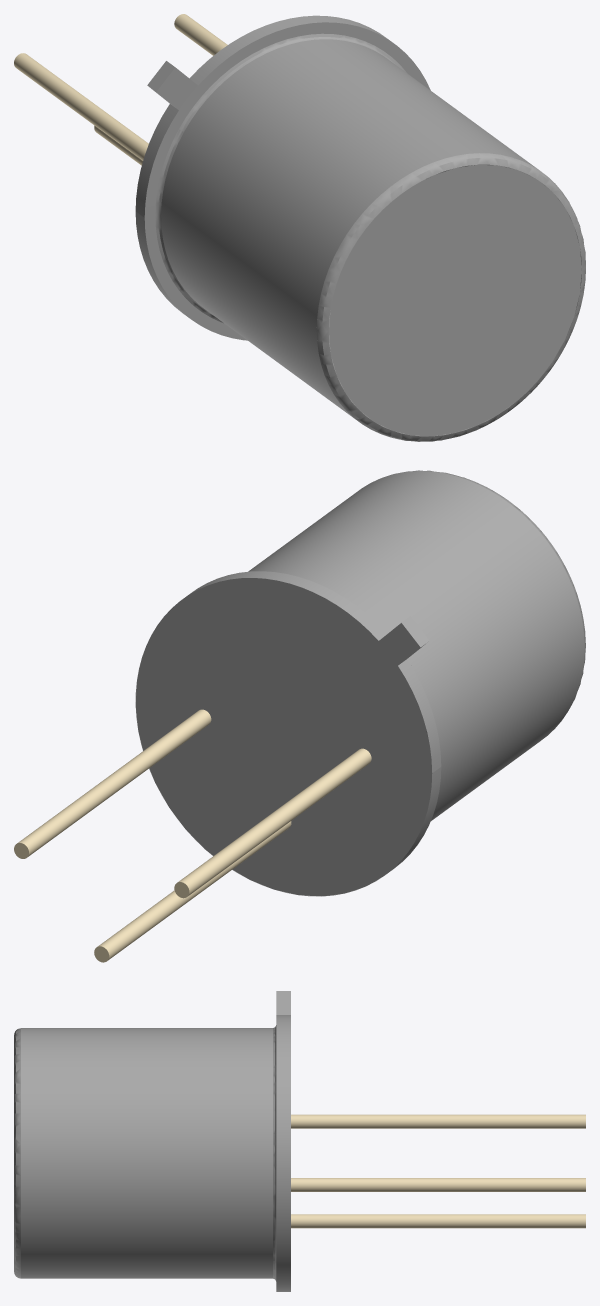
The picture shows the model from 3 angles, top to bottom: view 1: azimuth 30°, elevation 25°; view 2: azimuth 150°, elevation 25°; view 3: azimuth 270°, elevation 25°; orthographic projection. The views are drawn at different scales.
Parts seen in each view (by area): view 1: Shape_IndexedFaceSet.014, Shape_IndexedFaceSet.019, Shape_IndexedFaceSet.018, Shape_IndexedFaceSet.008, Shape_IndexedFaceSet.010, Shape_IndexedFaceSet.011, Shape_IndexedFaceSet.006, Shape_IndexedFaceSet.005, Shape_IndexedFaceSet.013, Shape_IndexedFaceSet.004; view 2: Shape_IndexedFaceSet.009, Shape_IndexedFaceSet.014, Shape_IndexedFaceSet.007, Shape_IndexedFaceSet.011, Shape_IndexedFaceSet.013, Shape_IndexedFaceSet.006, Shape_IndexedFaceSet.012, Shape_IndexedFaceSet.005, Shape_IndexedFaceSet.003, Shape_IndexedFaceSet.018; view 3: Shape_IndexedFaceSet.014, Shape_IndexedFaceSet.011, Shape_IndexedFaceSet.012, Shape_IndexedFaceSet.006, Shape_IndexedFaceSet.013, Shape_IndexedFaceSet.018, Shape_IndexedFaceSet.010.
Part boxes in pixels (x1,y1,x2,y2): Shape_IndexedFaceSet.014: [161, 39, 581, 436]; Shape_IndexedFaceSet.019: [329, 164, 581, 436]; Shape_IndexedFaceSet.018: [316, 153, 585, 441]; Shape_IndexedFaceSet.008: [144, 22, 430, 340]; Shape_IndexedFaceSet.010: [155, 33, 407, 323]; Shape_IndexedFaceSet.011: [14, 53, 148, 160]; Shape_IndexedFaceSet.006: [135, 15, 389, 318]; Shape_IndexedFaceSet.005: [135, 104, 178, 217]; Shape_IndexedFaceSet.013: [174, 14, 227, 55]; Shape_IndexedFaceSet.004: [156, 67, 197, 109]; Shape_IndexedFaceSet.009: [135, 578, 432, 896]; Shape_IndexedFaceSet.014: [248, 471, 584, 820]; Shape_IndexedFaceSet.007: [274, 641, 397, 749]; Shape_IndexedFaceSet.011: [178, 748, 371, 895]; Shape_IndexedFaceSet.013: [17, 709, 211, 856]; Shape_IndexedFaceSet.006: [135, 571, 441, 896]; Shape_IndexedFaceSet.012: [97, 821, 291, 960]; Shape_IndexedFaceSet.005: [398, 659, 441, 772]; Shape_IndexedFaceSet.003: [379, 623, 420, 665]; Shape_IndexedFaceSet.018: [393, 470, 585, 707]; Shape_IndexedFaceSet.014: [21, 1028, 272, 1278]; Shape_IndexedFaceSet.011: [291, 1114, 585, 1128]; Shape_IndexedFaceSet.012: [291, 1214, 585, 1228]; Shape_IndexedFaceSet.006: [276, 1015, 290, 1291]; Shape_IndexedFaceSet.013: [291, 1178, 585, 1191]; Shape_IndexedFaceSet.018: [14, 1028, 20, 1278]; Shape_IndexedFaceSet.010: [273, 1025, 276, 1281].
Bounding box in the file's own units: 3.7 × 3.7 × 7.64.
